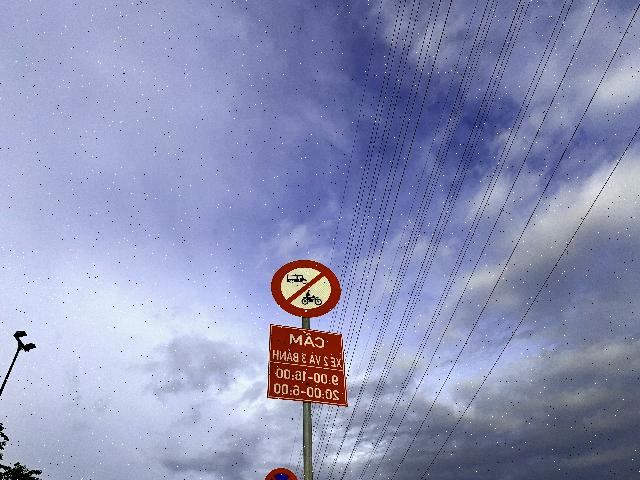cam-xe-2-banh-3-banh: (270, 260, 340, 318)
